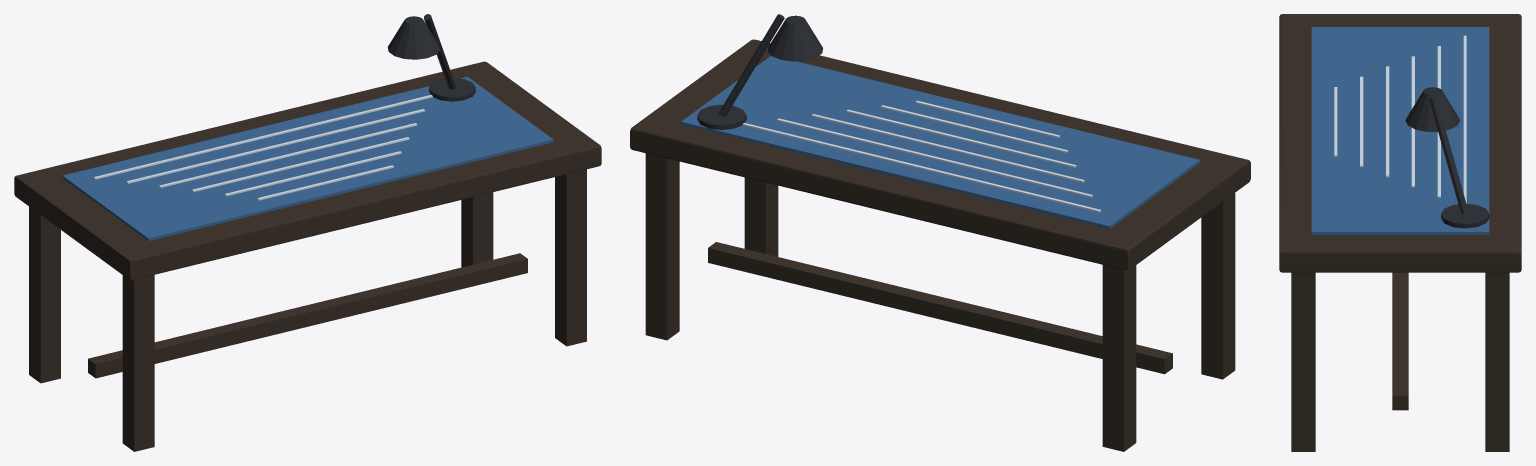
The model's file is plan-table.glb.
3 renders of one model, left to right at view 1: azimuth 30°, elevation 25°; view 2: azimuth 150°, elevation 25°; view 3: azimuth 270°, elevation 25°, orthographic. The views are drawn at different scales.
Visible parts, largest first — view 1: part-plan-wood, part-blueprint, part-plan-ink, part-lamp; view 2: part-plan-wood, part-blueprint, part-plan-ink, part-lamp; view 3: part-plan-wood, part-blueprint, part-lamp, part-plan-ink.
Part boxes in pixels (x1=…): part-plan-wood: x1=14, y1=61, x2=601, y2=451; part-blueprint: x1=62, y1=76, x2=553, y2=240; part-plan-ink: x1=93, y1=95, x2=432, y2=200; part-lamp: x1=388, y1=14, x2=475, y2=101; part-plan-wood: x1=630, y1=39, x2=1250, y2=451; part-blueprint: x1=681, y1=55, x2=1199, y2=228; part-plan-ink: x1=742, y1=100, x2=1100, y2=212; part-lamp: x1=697, y1=14, x2=822, y2=129; part-plan-wood: x1=1279, y1=14, x2=1521, y2=451; part-blueprint: x1=1311, y1=27, x2=1489, y2=234; part-lamp: x1=1405, y1=87, x2=1489, y2=228; part-plan-ink: x1=1334, y1=35, x2=1466, y2=203.
Size of the model in its own units: 70 by 42.24 by 30.
